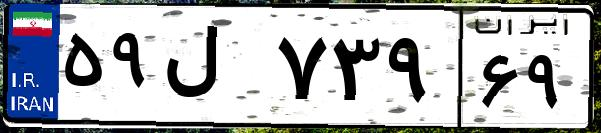3: (330, 28, 385, 110)
5: (57, 26, 110, 100)
6: (475, 38, 525, 113)
7: (270, 28, 330, 110)
9: (385, 28, 445, 110), (525, 38, 570, 115), (110, 28, 158, 98)
ل: (158, 20, 270, 120)
